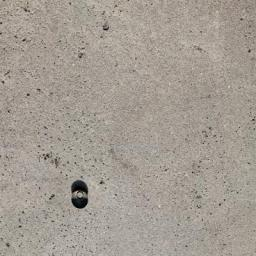FOD: (68, 178, 92, 212)
